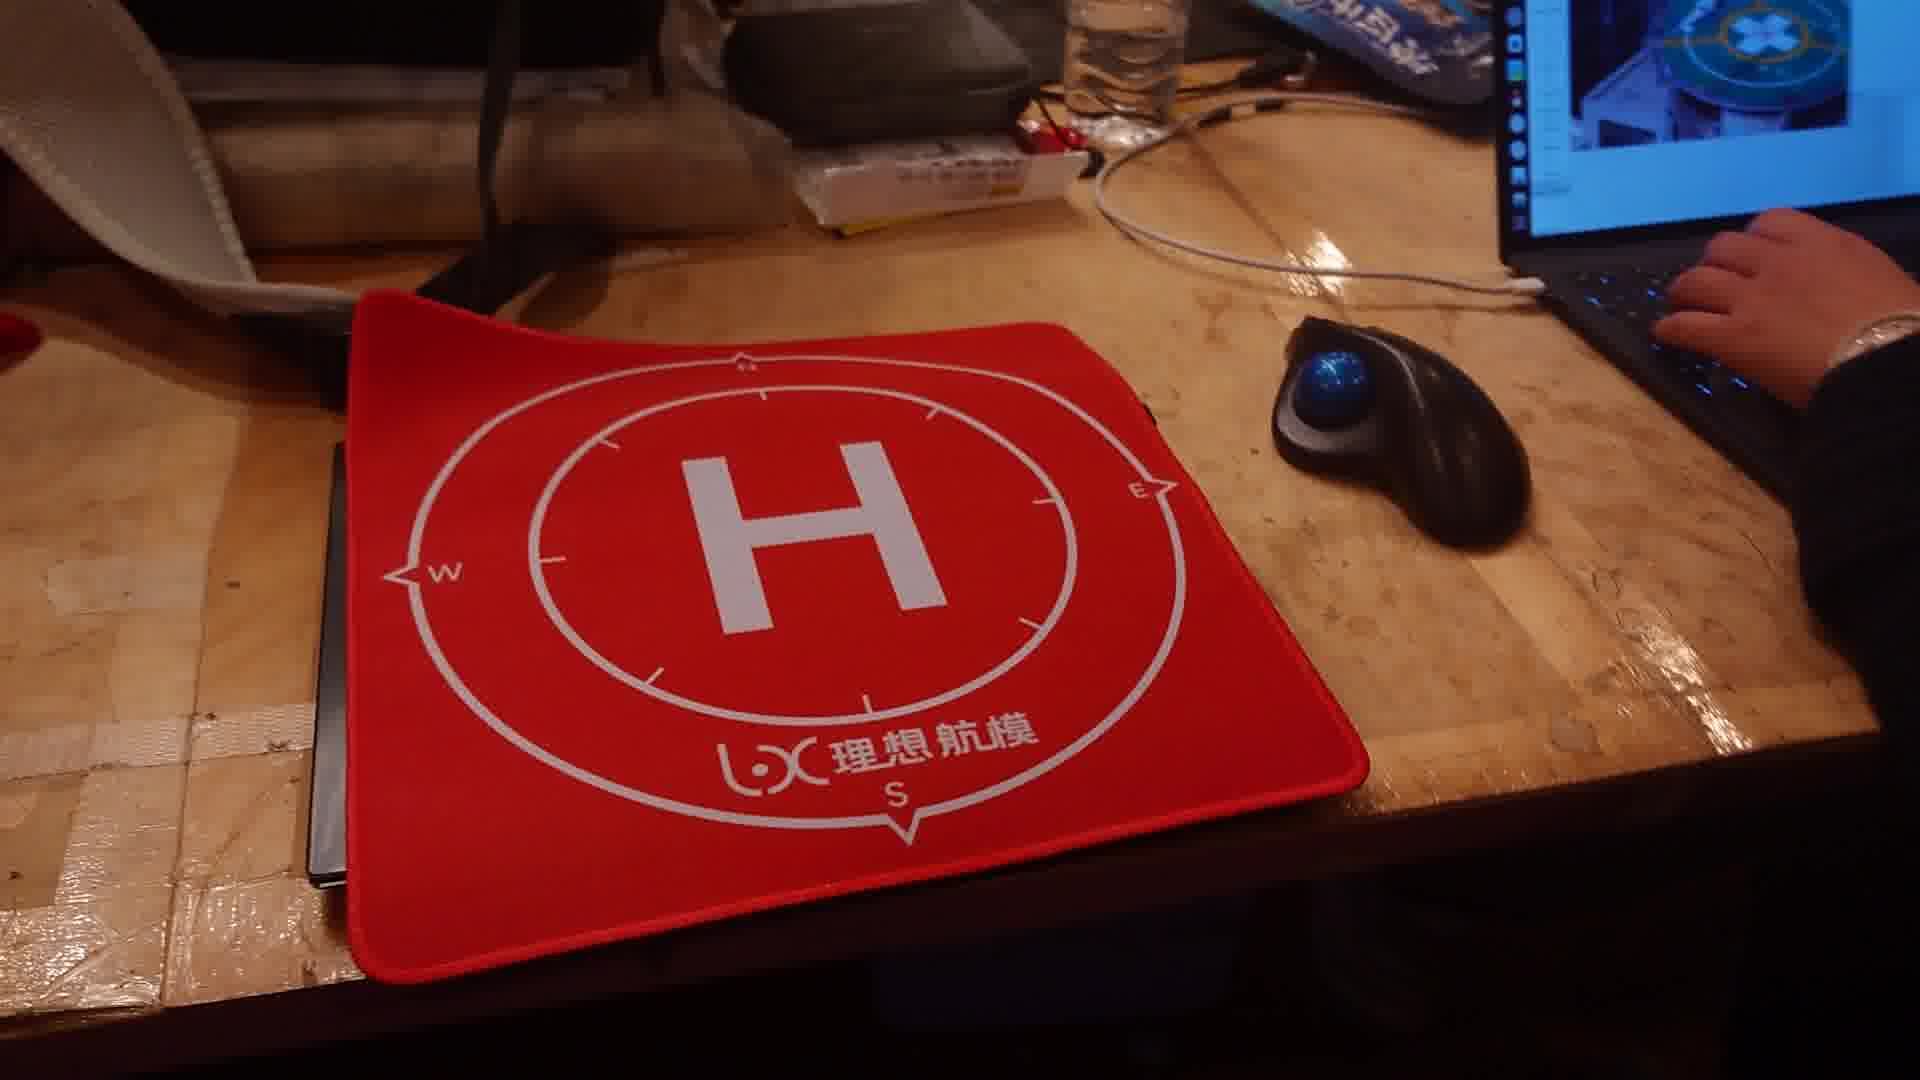H: (680, 440, 949, 640)
